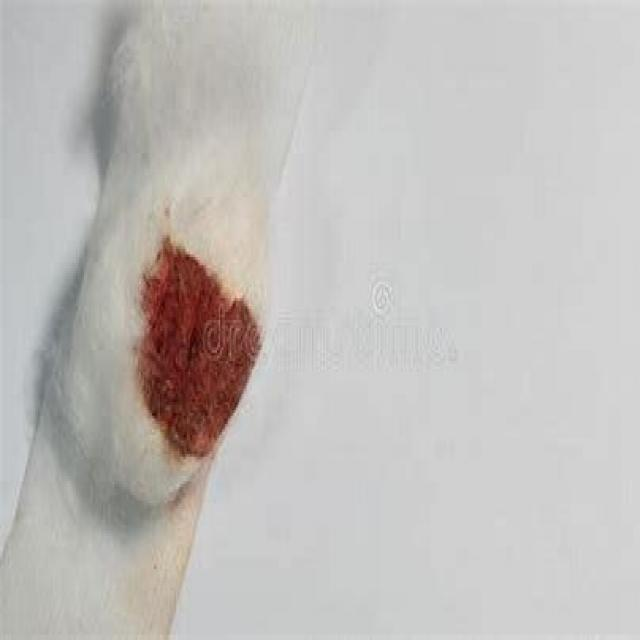wound: (117, 204, 290, 462)
